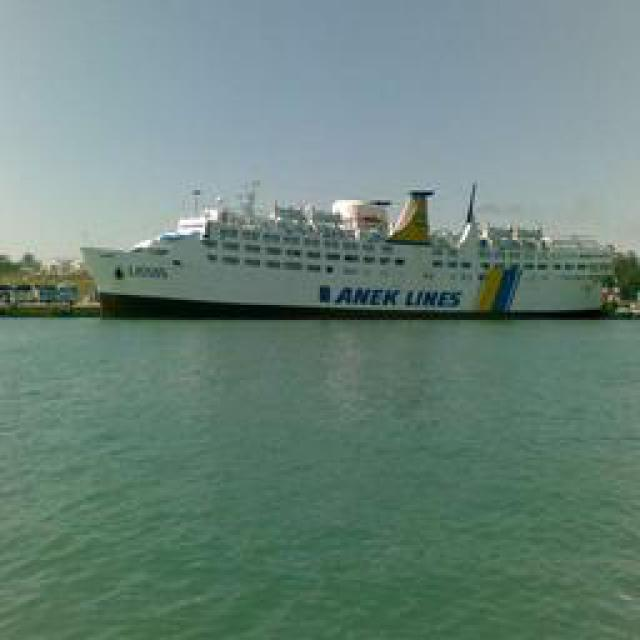Ship: (85, 185, 623, 320)
